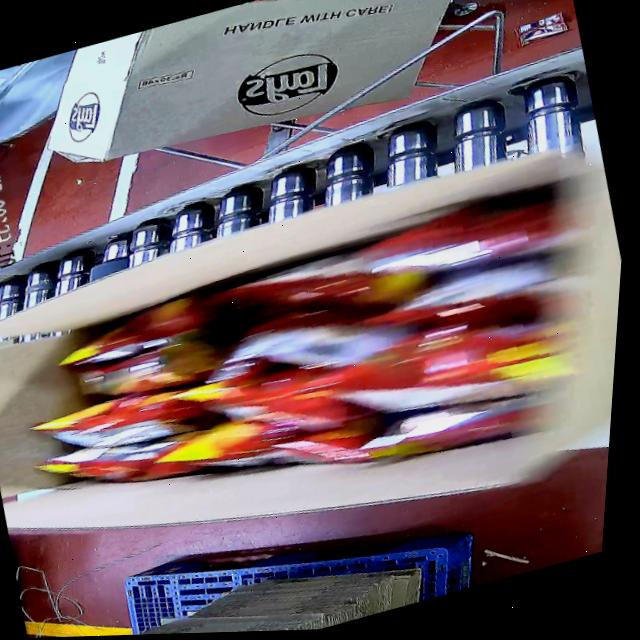MASALA: (0, 186, 621, 564)
